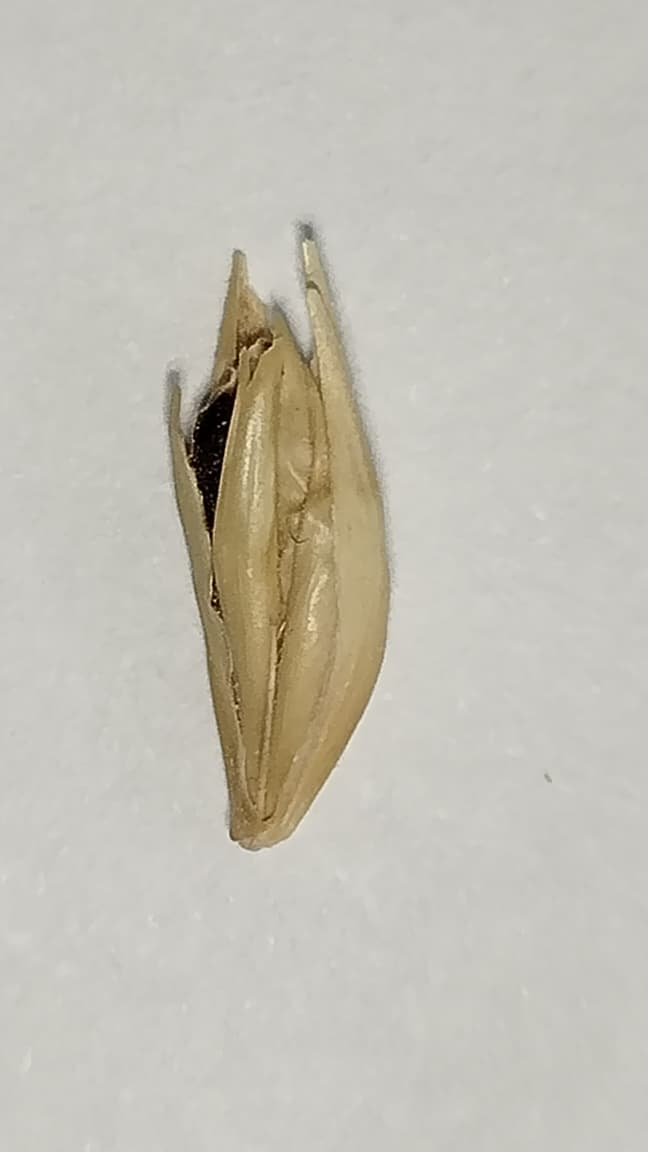damage: (170, 239, 388, 847)
staindamage: (190, 373, 246, 539)
